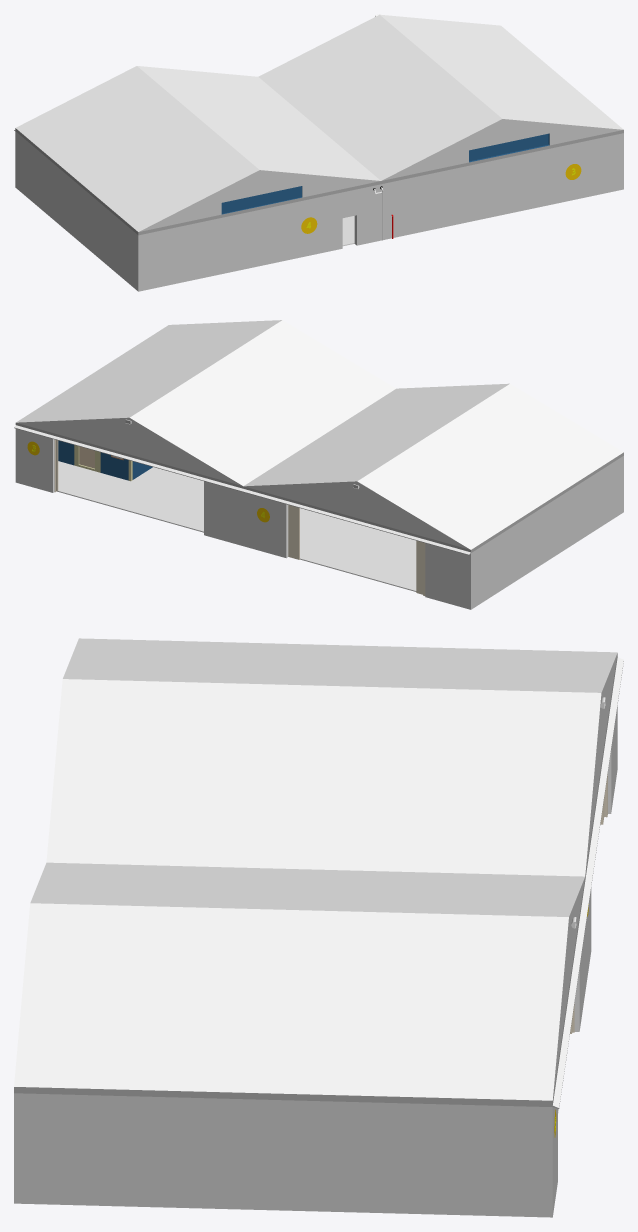
Rendered from Hangar3e4.gltf.
3 renders of one model, top to bottom at view 1: azimuth 30°, elevation 25°; view 2: azimuth 150°, elevation 25°; view 3: azimuth 270°, elevation 25°, orthographic. The views are drawn at different scales.
Visible parts, largest first — view 1: node2, node4, node12, node15, node16, node8; view 2: node2, node4, node14, node12, node15, node11, node20, node10, node18; view 3: node2, node4, node15, node12.
Part boxes in pixels (left/top/right/bottom): node2: left=16, top=14, right=623, bottom=246; node4: left=15, top=131, right=623, bottom=291; node12: left=139, top=119, right=623, bottom=231; node15: left=15, top=128, right=623, bottom=235; node16: left=221, top=133, right=548, bottom=213; node8: left=301, top=164, right=581, bottom=233; node2: left=14, top=320, right=623, bottom=591; node4: left=15, top=428, right=623, bottom=609; node14: left=58, top=461, right=416, bottom=590; node12: left=16, top=417, right=470, bottom=549; node15: left=15, top=423, right=623, bottom=552; node11: left=54, top=439, right=425, bottom=595; node20: left=58, top=440, right=152, bottom=480; node10: left=14, top=420, right=470, bottom=555; node18: left=74, top=445, right=132, bottom=481; node2: left=14, top=638, right=623, bottom=1112; node4: left=14, top=706, right=617, bottom=1217; node15: left=14, top=654, right=617, bottom=1106; node12: left=553, top=653, right=617, bottom=1097.
Bounding box in the file's own units: 44.93 × 8.53 × 25.04.
